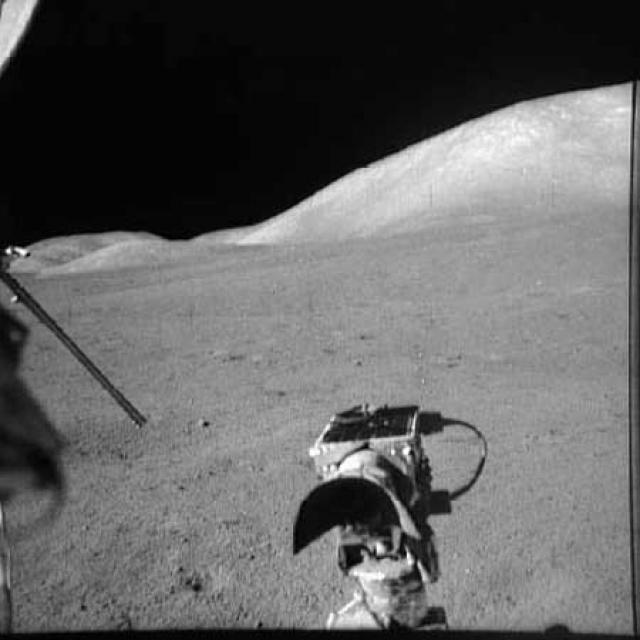artifact: (290, 396, 504, 638), (0, 245, 158, 425)
